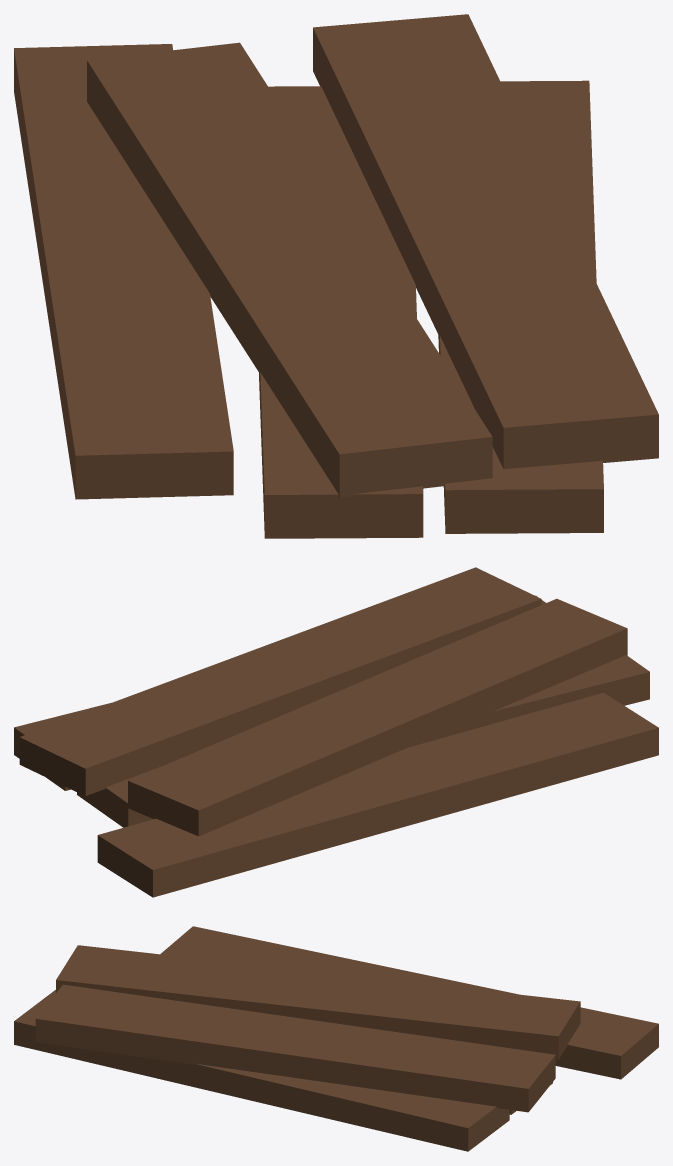
File: wood_2_mat.fbx
3 views of the same model, one above another, from view 1: azimuth 30°, elevation 25°; view 2: azimuth 150°, elevation 25°; view 3: azimuth 270°, elevation 25° (orthographic). The views are drawn at different scales.
Parts seen in each view (by area): view 1: wood_2_mat; view 2: wood_2_mat; view 3: wood_2_mat.
Part boxes in pixels (x1,y1,x2,y2): wood_2_mat: [14, 14, 658, 538]; wood_2_mat: [14, 567, 658, 897]; wood_2_mat: [14, 926, 658, 1151].
Size of the model in its own units: 137 by 14.45 by 184.
